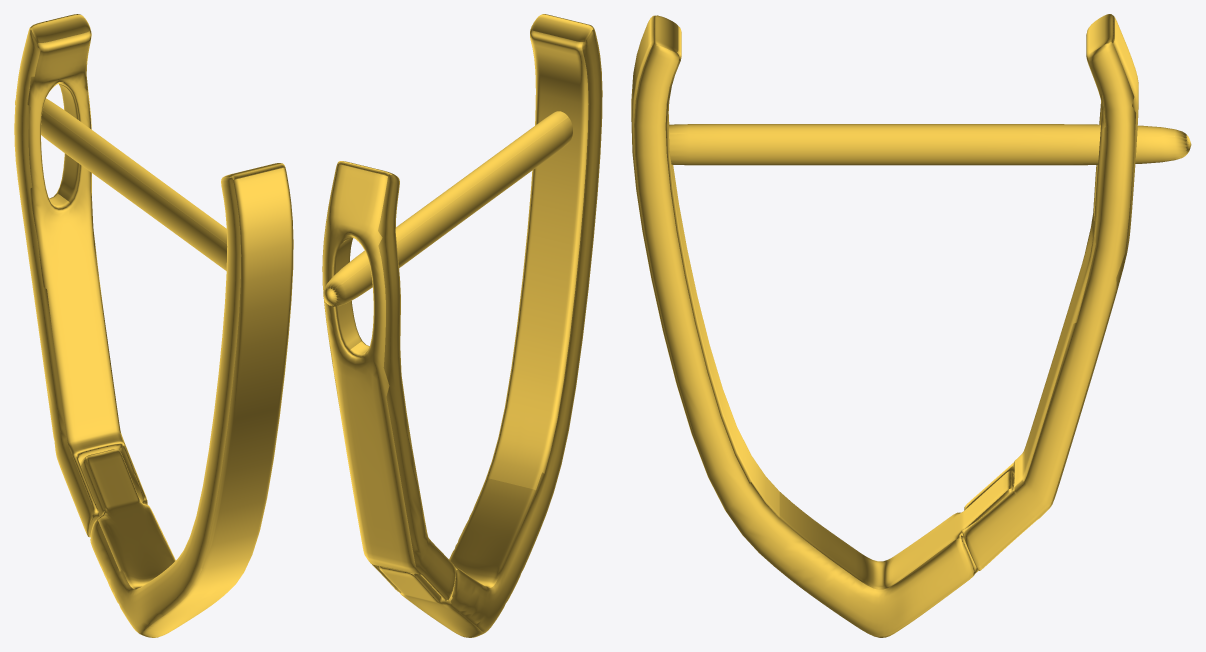
The model's file is earringsSimple_1.glb.
The picture shows the model from 3 angles, left to right: view 1: azimuth 30°, elevation 25°; view 2: azimuth 150°, elevation 25°; view 3: azimuth 270°, elevation 25°; orthographic projection. The views are drawn at different scales.
Visible parts, largest first — view 1: Object_2; view 2: Object_2; view 3: Object_2.
Part boxes in pixels (bbox=[...]): Object_2: bbox=[14, 14, 293, 637]; Object_2: bbox=[322, 14, 602, 637]; Object_2: bbox=[631, 14, 1191, 637].
Size of the model in its own units: 0.00807 by 0.0598 by 0.0497.
